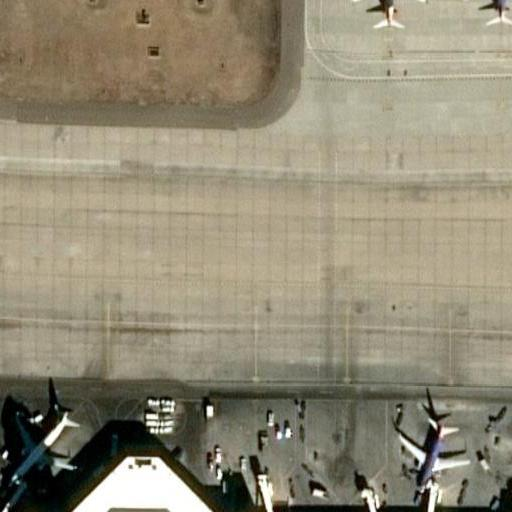Aircraft: (0, 391, 80, 494), (388, 404, 475, 495), (360, 0, 413, 44), (467, 2, 512, 34)
